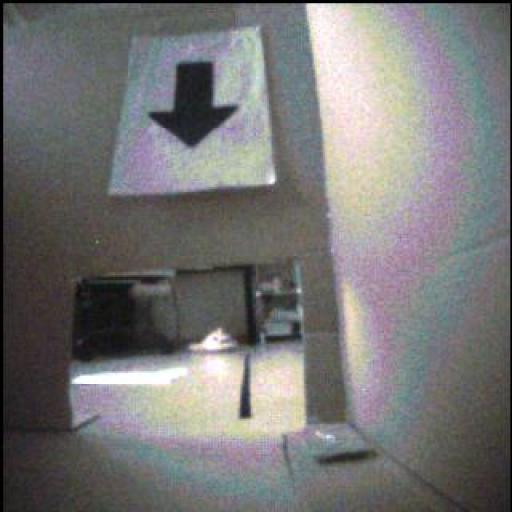arrow: (150, 64, 238, 149)
